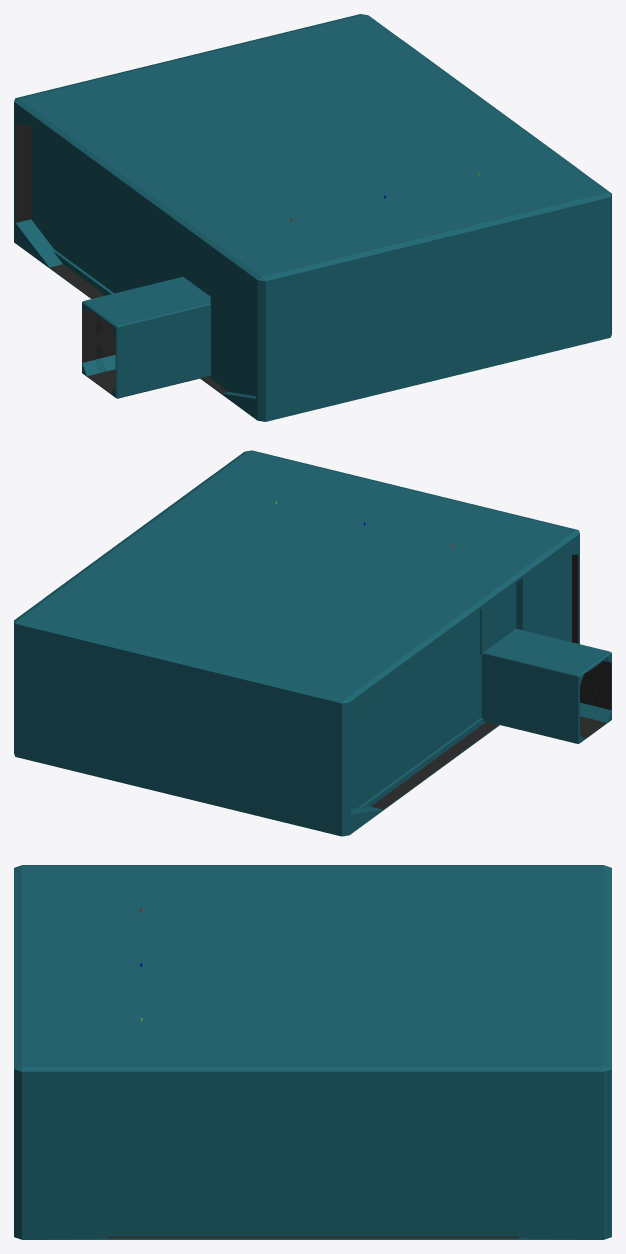
The model's file is SpaceDock.fbx.
The picture shows the model from 3 angles, top to bottom: view 1: azimuth 30°, elevation 25°; view 2: azimuth 150°, elevation 25°; view 3: azimuth 270°, elevation 25°; orthographic projection. The views are drawn at different scales.
Parts seen in each view (by area): view 1: Cube.016, Cube.015; view 2: Cube.016, Cube.015; view 3: Cube.016.
Part boxes in pixels (box(x1,y1,x2,y2)): Cube.016: box(14, 14, 611, 421); Cube.015: box(82, 277, 210, 398); Cube.016: box(14, 450, 579, 836); Cube.015: box(481, 628, 611, 743); Cube.016: box(14, 865, 611, 1239).
Size of the model in its own units: 5093 by 1625 by 4993.
